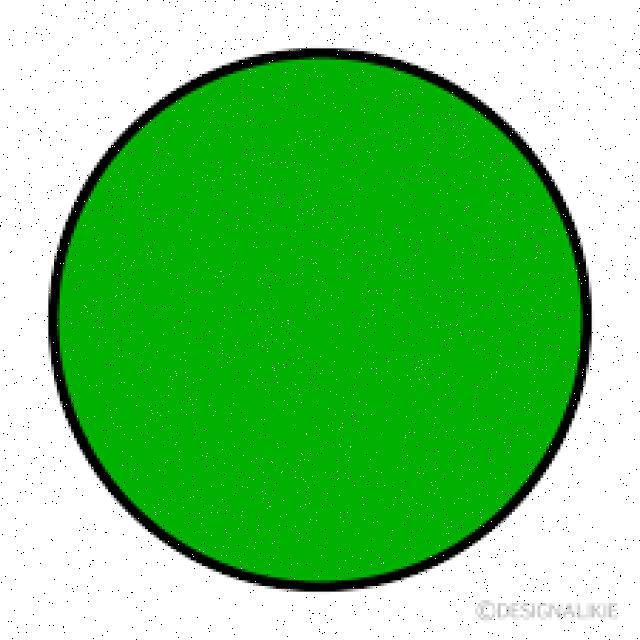Circle: (46, 48, 594, 594)
